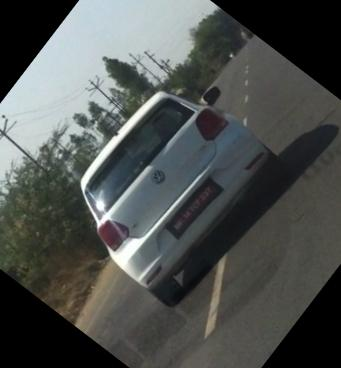plate: (146, 161, 237, 262)
